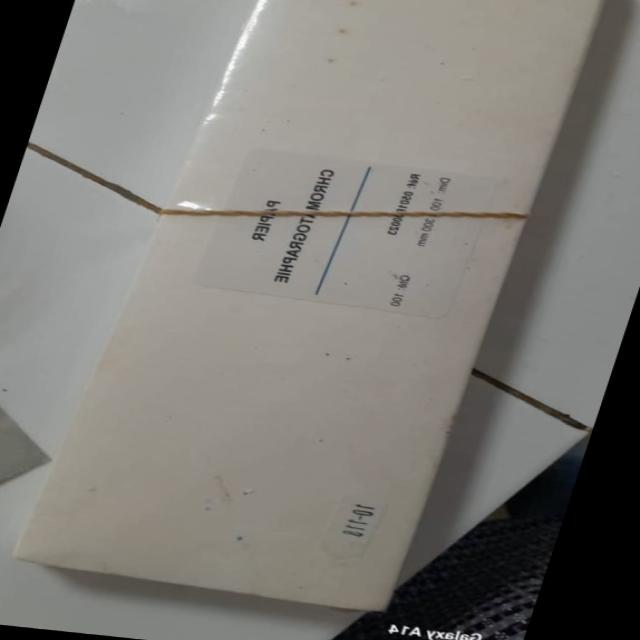Paper Chromatography: (33, 0, 609, 611)
